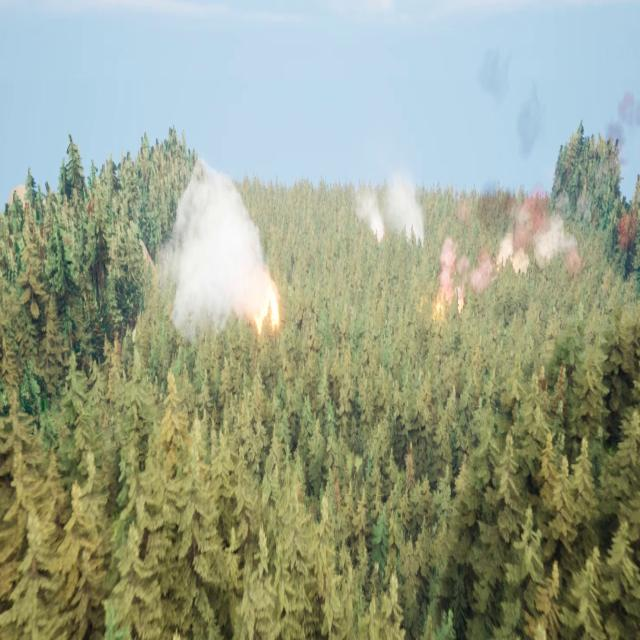fire: (252, 286, 284, 332)
smoke: (434, 188, 576, 318), (162, 170, 276, 330), (356, 169, 422, 265)
